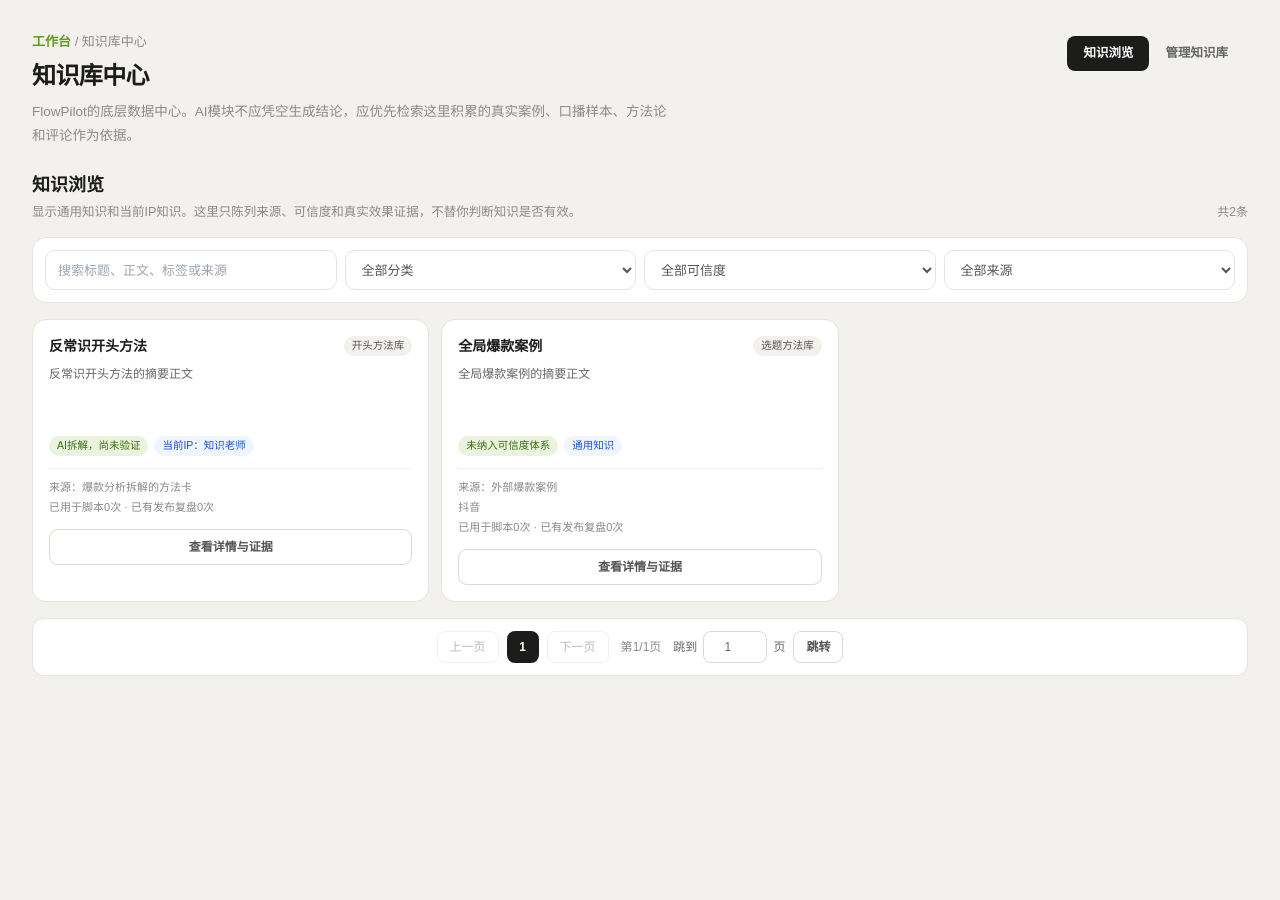
确认删除时知识归属已经变化会明确阻止且保留原数据
The width and height of the screenshot is (1280, 900).
Click the button with aria-label "查看反常识开头方法详情" at x=231, y=547, box [49,529,412,565]
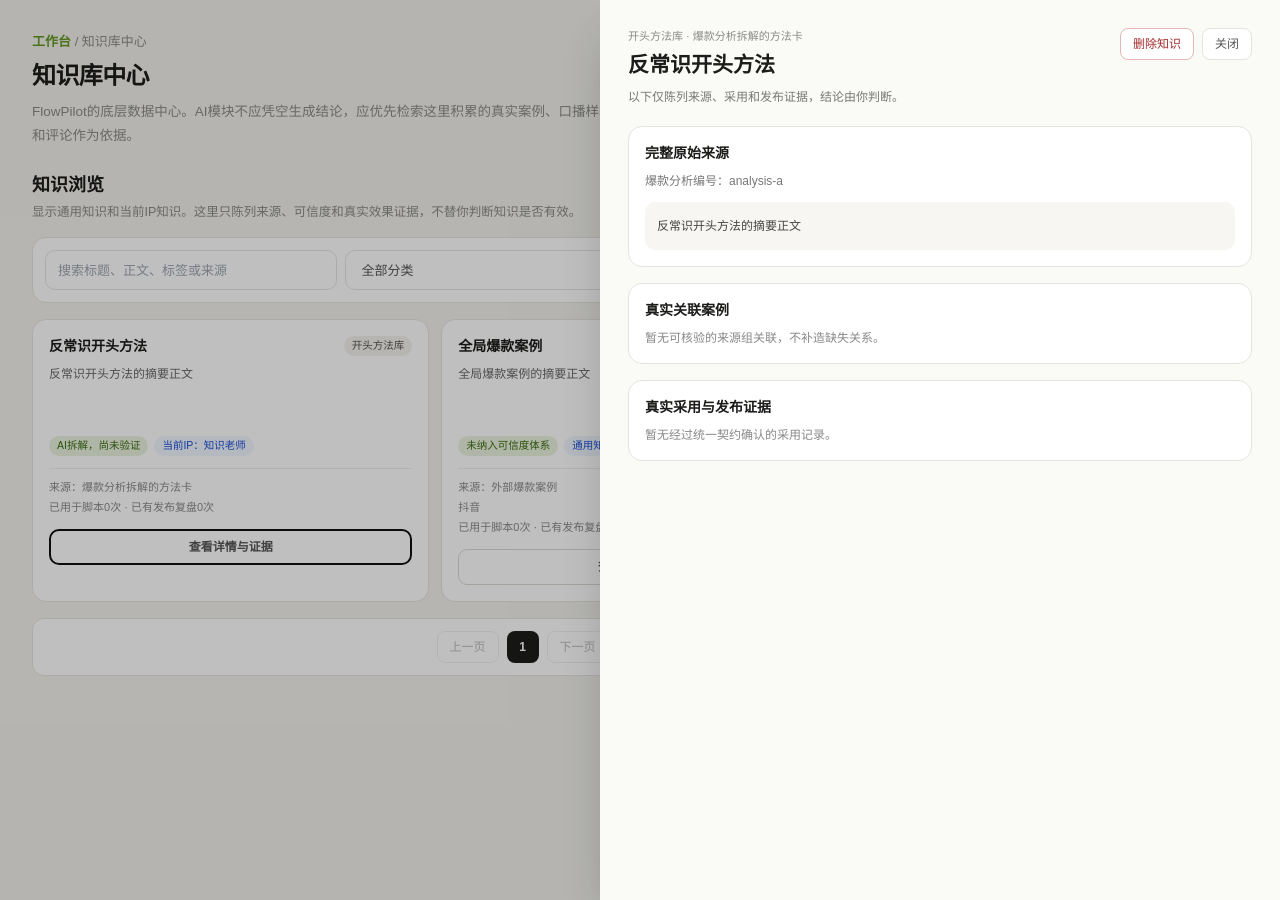
Click the button "删除知识" at x=1157, y=44, box [1120,28,1194,60]
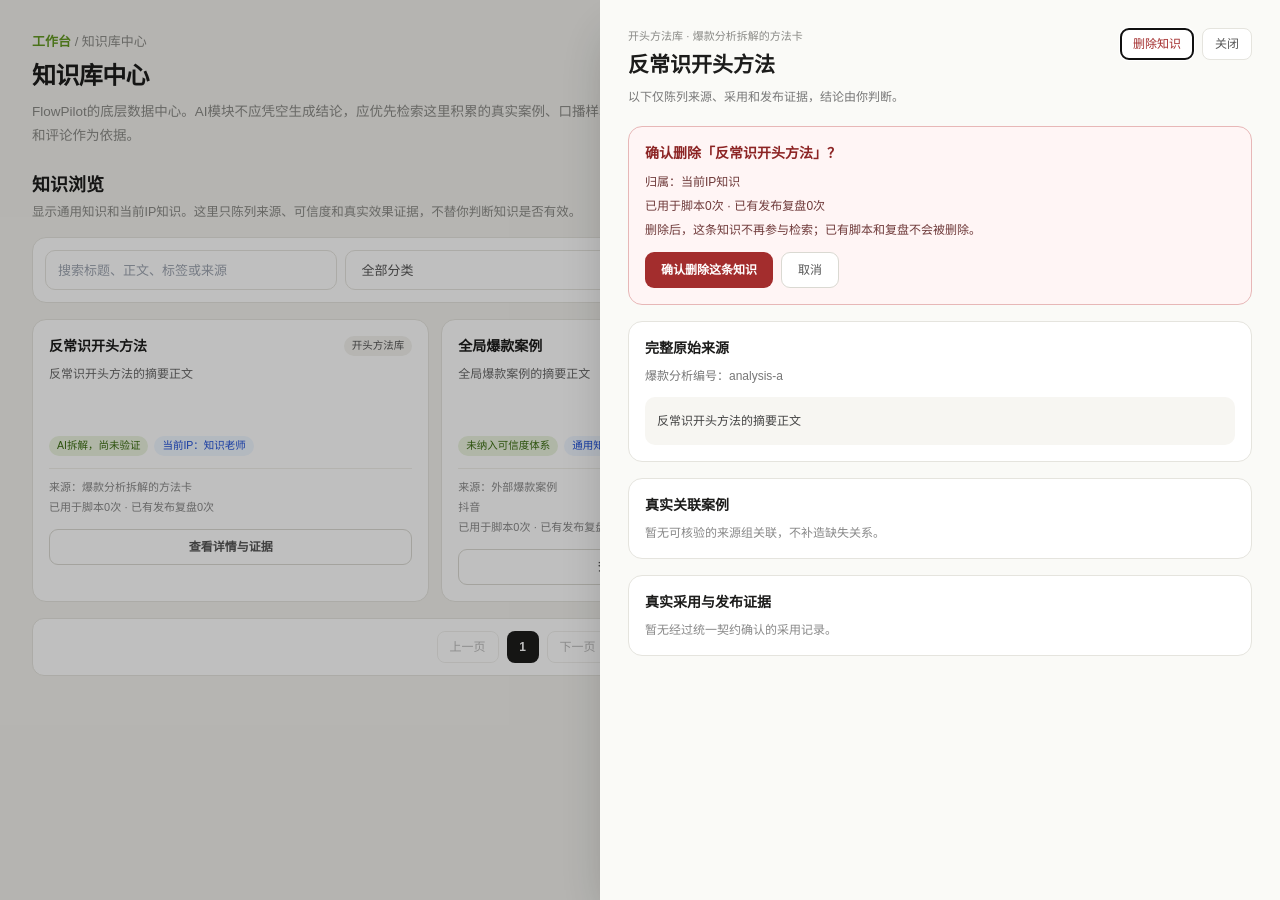
Click the button "确认删除这条知识" at x=709, y=270, box [645,252,773,288]
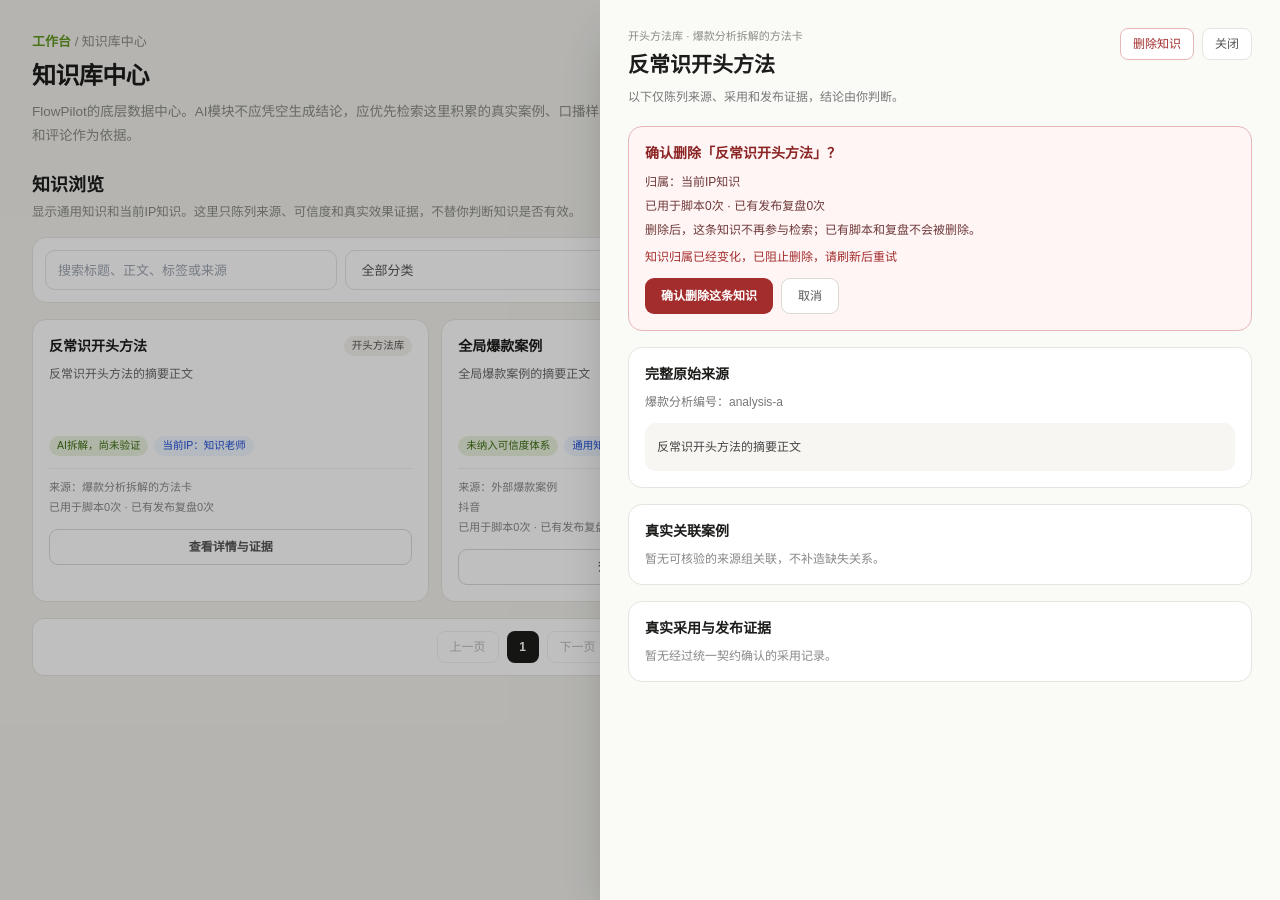
Expected: the dialog named "知识详情：反常识开头方法" is shown, [600,0,1279,899]
Expected: the message shows "知识归属已经变化", [645,250,897,264]
